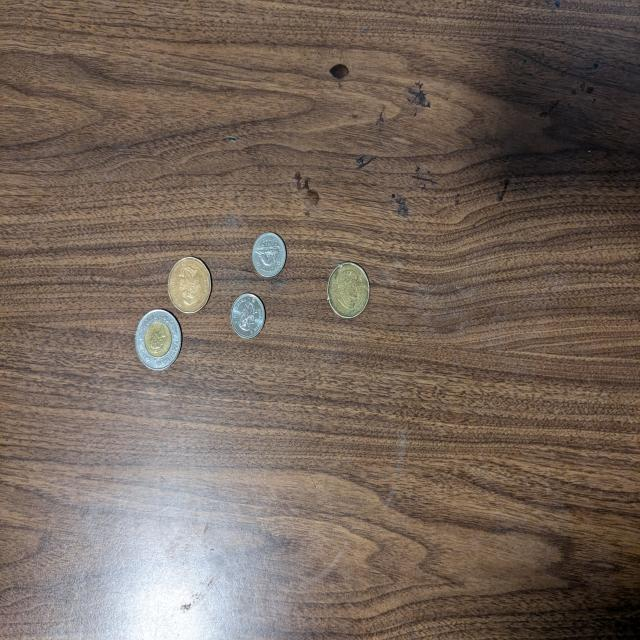loonie: (168, 256, 212, 314), (326, 262, 370, 320)
nickel: (230, 294, 266, 338), (252, 232, 286, 278)
toonie: (135, 310, 182, 372)
